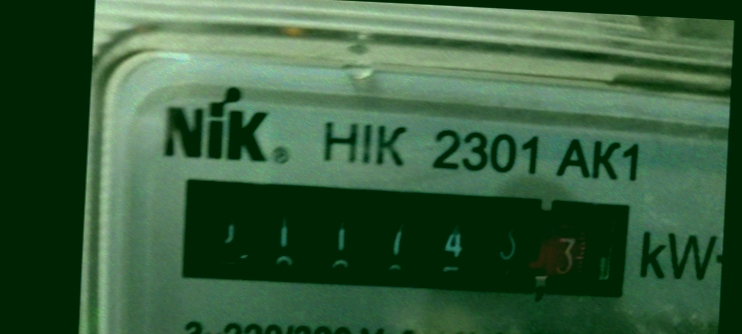0: (210, 198, 241, 247)
1: (330, 206, 353, 255), (275, 203, 294, 252)
3: (493, 216, 524, 264), (553, 233, 579, 278)
4: (439, 212, 470, 261)
7: (386, 210, 412, 260)
screen: (166, 168, 637, 310)
